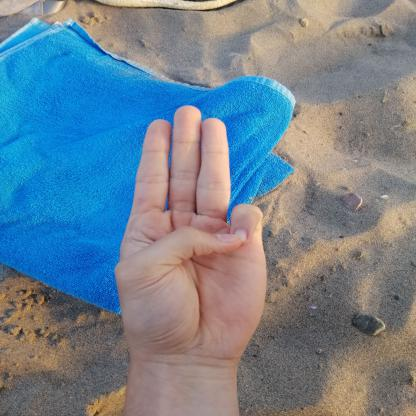THA: (99, 96, 283, 368)
